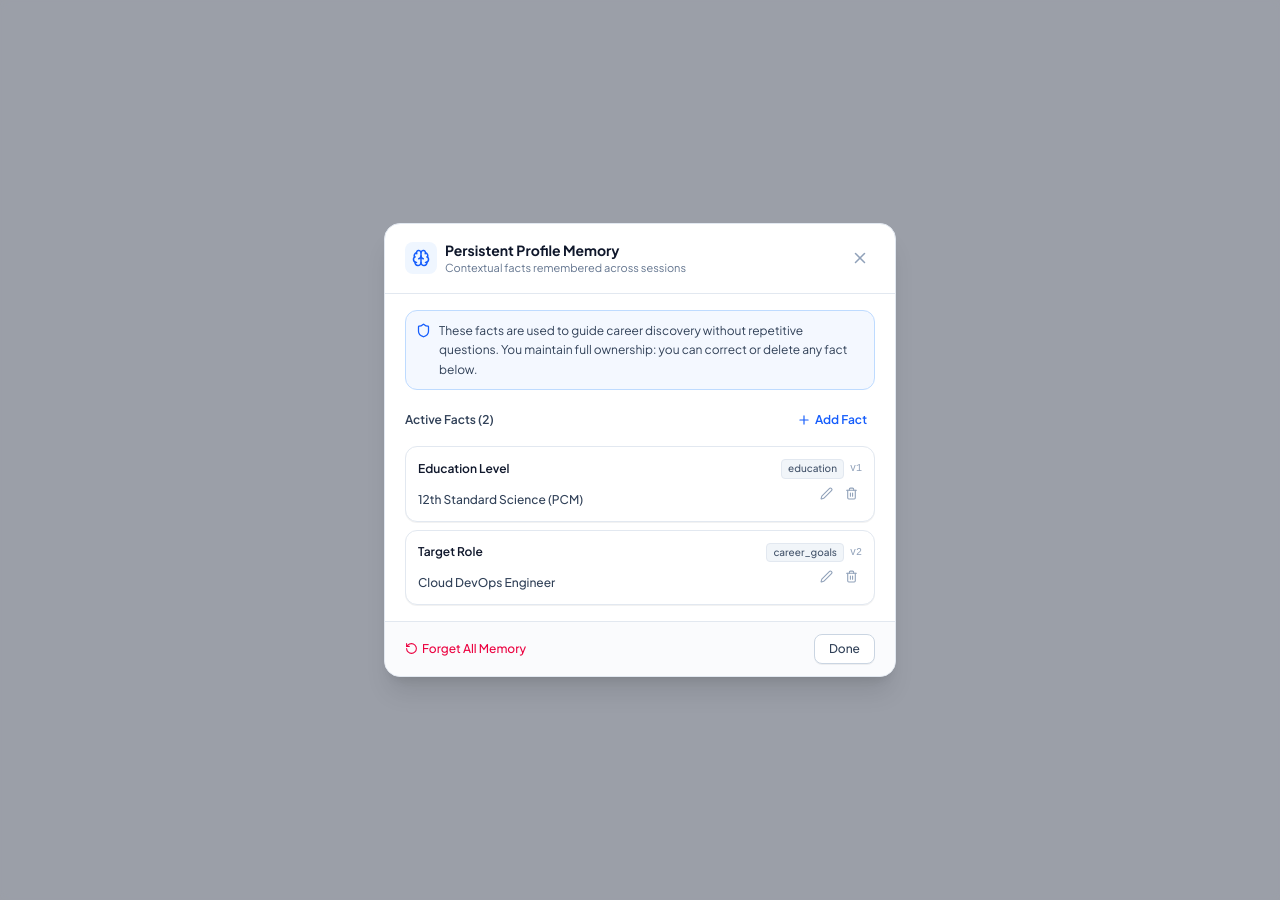
it: MemoryModal Component › allows deleting/forgetting an individual fact
Check: the text "12th Standard Science (PCM)" is shown, box [418,490,583,508]
# Click delete button
Click the button titled "Forget fact" in the row of "12th Standard Science (PCM)": (852, 493) [841,482,862,504]
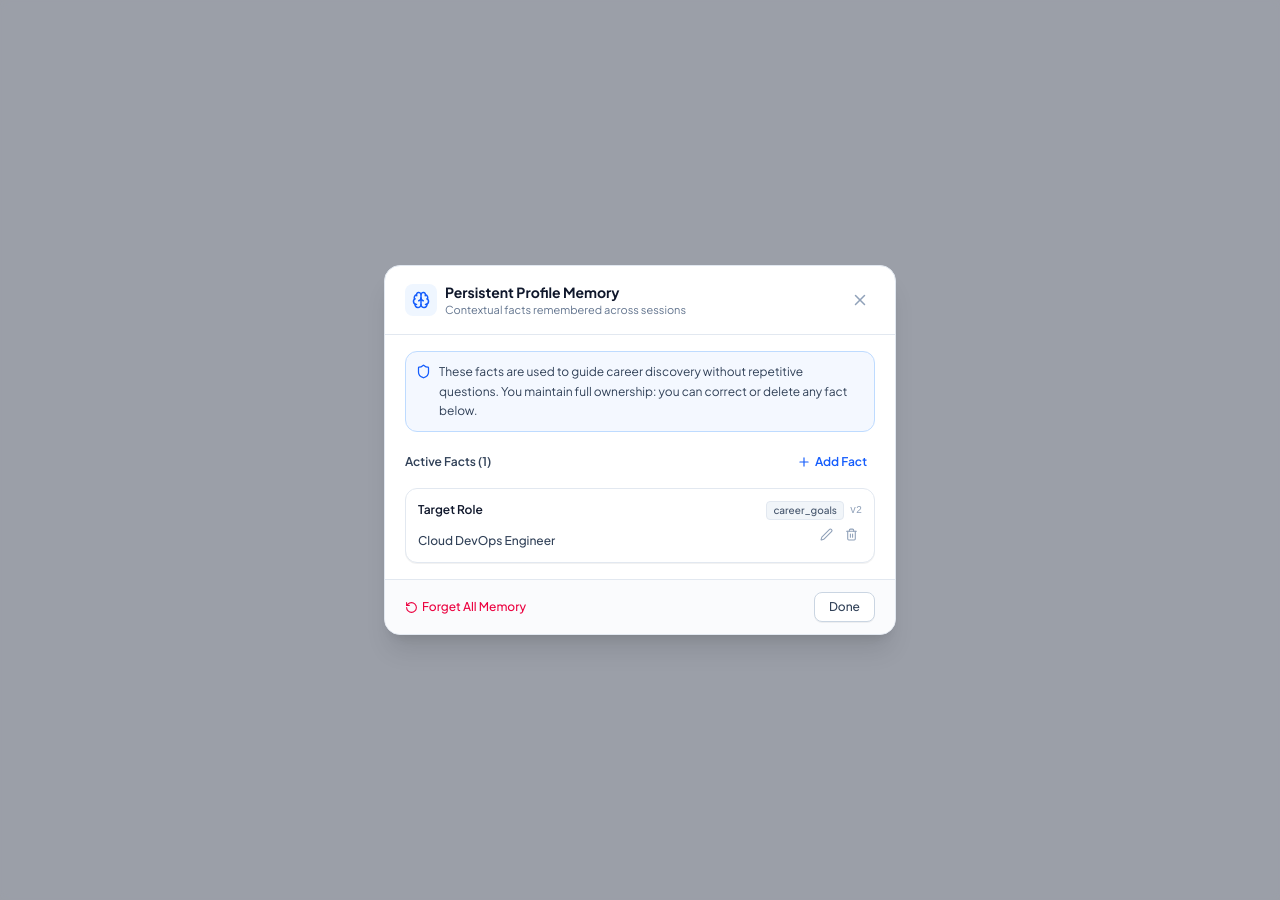
Check: the text "12th Standard Science (PCM)" is gone
